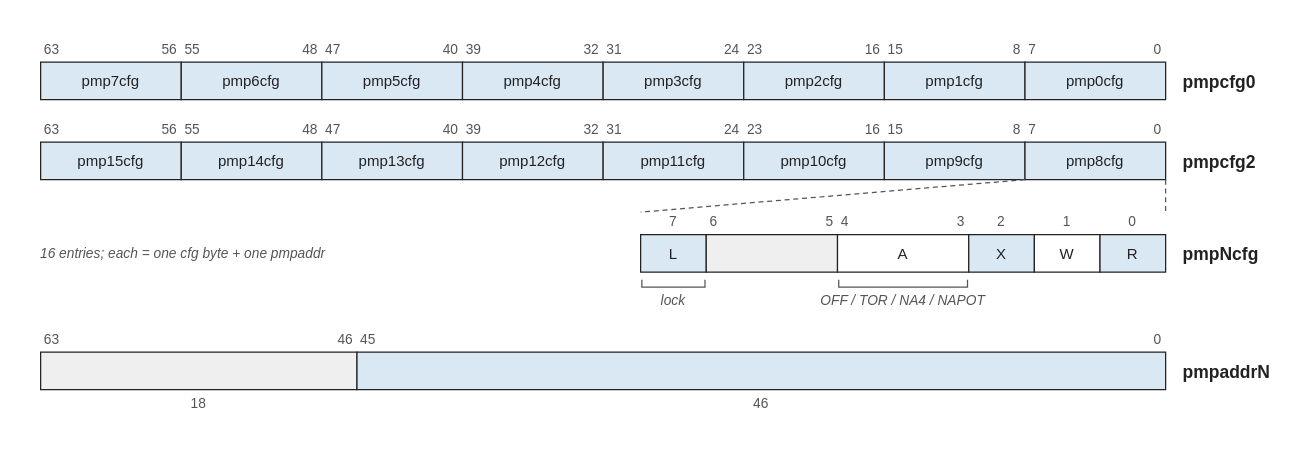
The diagram is 1314 pixels wide and 451 high, and some of its shapes have lost their labels. The centre of each missing label's shape, as x and y in pixels:
address = PA[47:2]: the point at 761,370
not impl., read 0: the point at 198,370
res., 0: the point at 771,252
